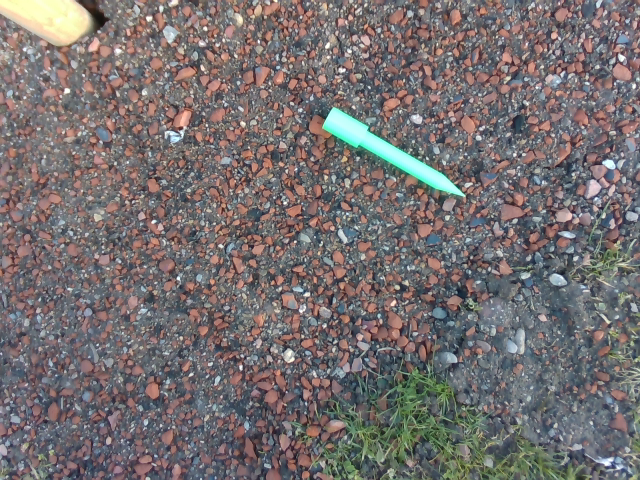Probe: (320, 103, 476, 204)
